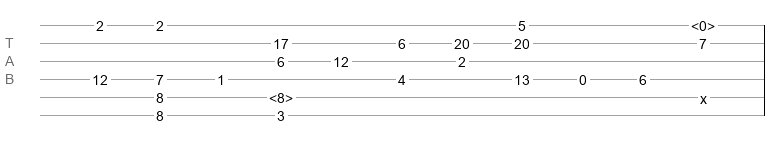0: (579, 72, 587, 82)
1: (217, 72, 225, 82)
12: (92, 72, 108, 82), (333, 54, 349, 64)
13: (514, 72, 530, 82)
17: (273, 36, 289, 46)
2: (96, 18, 104, 28), (156, 18, 164, 28), (458, 54, 466, 64)
20: (454, 36, 470, 46), (514, 36, 530, 46)
3: (277, 108, 285, 118)
4: (398, 72, 406, 82)
5: (518, 18, 526, 28)
6: (277, 54, 285, 64), (398, 36, 406, 46), (639, 72, 647, 82)
7: (156, 72, 164, 82), (699, 36, 707, 46)
8: (156, 108, 164, 118), (156, 90, 164, 100)
harmonic: (269, 90, 293, 100), (691, 18, 715, 28)
x: (700, 91, 707, 99)
